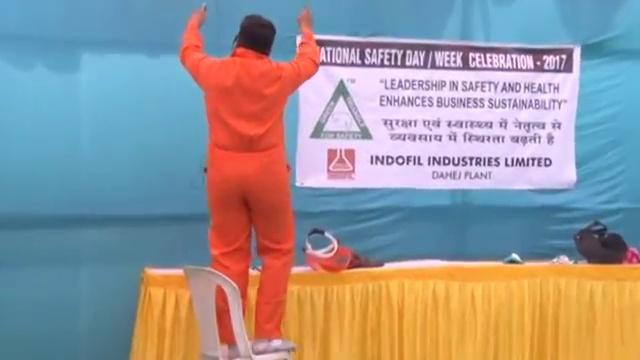helmet_off: (234, 13, 278, 59)
person: (177, 5, 319, 360)
